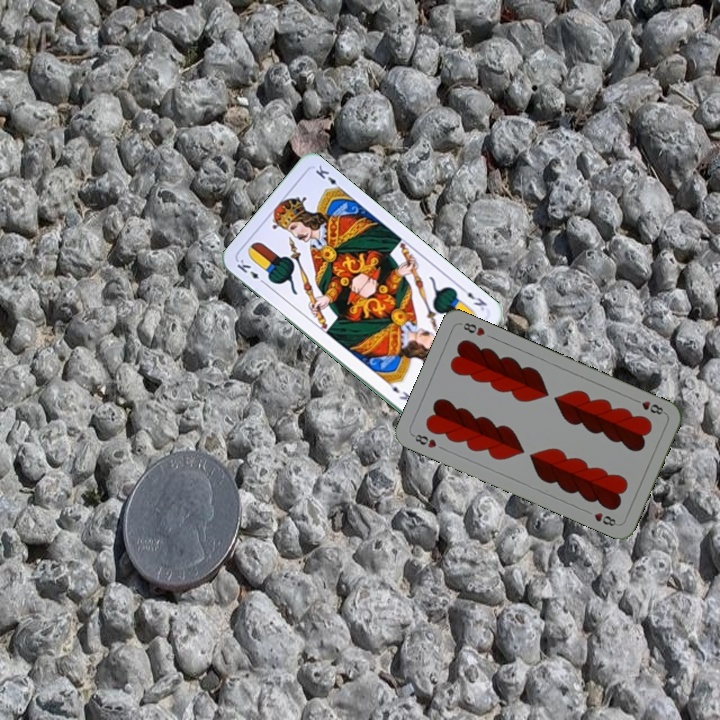EK: (233, 255, 269, 287), (457, 283, 491, 316)
H8: (629, 395, 668, 417), (408, 430, 439, 451)
